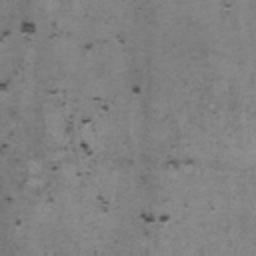Oxide scale of temperature system: (51, 96, 110, 172), (84, 32, 127, 52), (0, 19, 36, 36), (4, 195, 20, 225), (164, 156, 195, 169), (141, 210, 170, 223), (95, 195, 110, 214), (0, 142, 10, 152), (132, 84, 141, 95), (0, 81, 8, 92)
